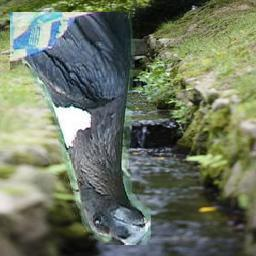Crow: (11, 13, 152, 246)
